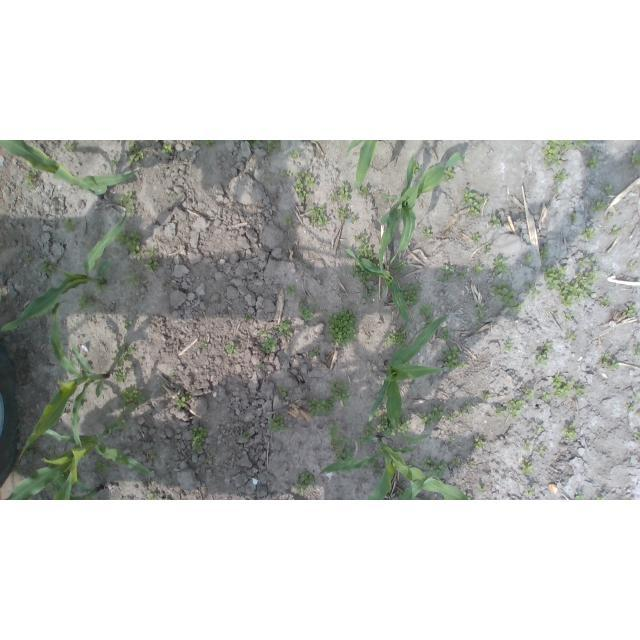Maize: (19, 299, 110, 462), (1, 213, 126, 330), (4, 424, 153, 500), (380, 151, 465, 279), (315, 432, 469, 500), (369, 314, 455, 435), (0, 140, 136, 201), (344, 249, 410, 334), (345, 141, 382, 190), (51, 477, 103, 500)
Weeds: (561, 268, 601, 309), (328, 308, 358, 346), (492, 281, 525, 313), (327, 423, 353, 462), (541, 140, 575, 168), (112, 343, 135, 381), (116, 229, 143, 260), (461, 188, 487, 217), (354, 232, 376, 263), (541, 266, 568, 291), (294, 171, 315, 202), (122, 386, 146, 413), (443, 346, 468, 371), (294, 469, 316, 496), (330, 379, 352, 405), (188, 427, 209, 454), (401, 282, 424, 306), (421, 458, 448, 478), (420, 407, 448, 426), (553, 374, 574, 398), (309, 397, 335, 416), (384, 330, 408, 349), (308, 205, 328, 227), (128, 140, 145, 164), (378, 416, 397, 437), (358, 277, 377, 298), (536, 343, 553, 366), (267, 414, 287, 433), (507, 398, 525, 418), (117, 192, 135, 212), (299, 302, 317, 322), (492, 256, 509, 277), (335, 208, 357, 224), (348, 261, 370, 277), (525, 282, 544, 300), (474, 302, 489, 324), (333, 184, 351, 202), (438, 265, 455, 283), (262, 335, 279, 353), (600, 353, 619, 369), (78, 291, 93, 309), (175, 395, 193, 410), (279, 320, 294, 336), (392, 260, 409, 274), (459, 402, 473, 419), (264, 140, 281, 154), (521, 459, 535, 476), (363, 421, 378, 436), (63, 219, 79, 233), (93, 460, 110, 473), (111, 419, 129, 431), (127, 272, 141, 287), (441, 168, 455, 183), (40, 261, 54, 276), (226, 341, 240, 356), (416, 303, 432, 316), (24, 172, 36, 189), (592, 200, 609, 212), (564, 422, 576, 439), (577, 256, 595, 267), (553, 170, 568, 183), (440, 327, 452, 343), (585, 156, 599, 169), (582, 228, 596, 241), (145, 260, 159, 273), (398, 419, 410, 433), (624, 303, 636, 317), (381, 193, 397, 203), (488, 215, 500, 228), (524, 387, 537, 399), (574, 383, 584, 398), (162, 144, 175, 155), (474, 264, 485, 277), (310, 345, 321, 357), (278, 384, 288, 397), (470, 233, 481, 244), (23, 252, 33, 264), (290, 148, 300, 160), (631, 152, 640, 165), (64, 141, 74, 152), (495, 406, 505, 417), (474, 438, 485, 448), (600, 296, 611, 306), (421, 228, 432, 238), (286, 284, 297, 294), (356, 437, 366, 448), (524, 439, 533, 451), (604, 183, 613, 195), (359, 185, 369, 195), (523, 487, 534, 496), (452, 459, 463, 468), (540, 248, 549, 259), (576, 141, 589, 148), (477, 484, 484, 497), (413, 164, 422, 174), (612, 227, 621, 237), (542, 392, 550, 403), (524, 253, 532, 264), (284, 215, 292, 226), (425, 316, 433, 327), (148, 454, 160, 461), (97, 284, 106, 293), (112, 160, 121, 169), (536, 425, 545, 434), (147, 247, 155, 257), (29, 443, 37, 453), (538, 445, 548, 453), (459, 269, 469, 277), (124, 320, 132, 329), (565, 312, 574, 320), (568, 333, 577, 341), (628, 262, 637, 270), (506, 340, 513, 350), (251, 141, 261, 148), (205, 140, 216, 146), (634, 345, 640, 356), (633, 394, 640, 403), (628, 405, 637, 412), (575, 494, 585, 500), (483, 246, 491, 253), (147, 492, 154, 500), (282, 171, 291, 177), (634, 432, 640, 440), (200, 342, 208, 348), (483, 394, 489, 401), (135, 445, 142, 451), (448, 415, 455, 421), (243, 432, 249, 439), (596, 496, 605, 500), (607, 213, 613, 219), (207, 455, 213, 461), (448, 436, 455, 441), (572, 213, 577, 220), (245, 316, 252, 321), (169, 371, 173, 379), (63, 273, 68, 279), (467, 462, 473, 467), (267, 176, 273, 181), (376, 412, 381, 417), (556, 186, 560, 190), (44, 457, 49, 460), (163, 498, 169, 500)
